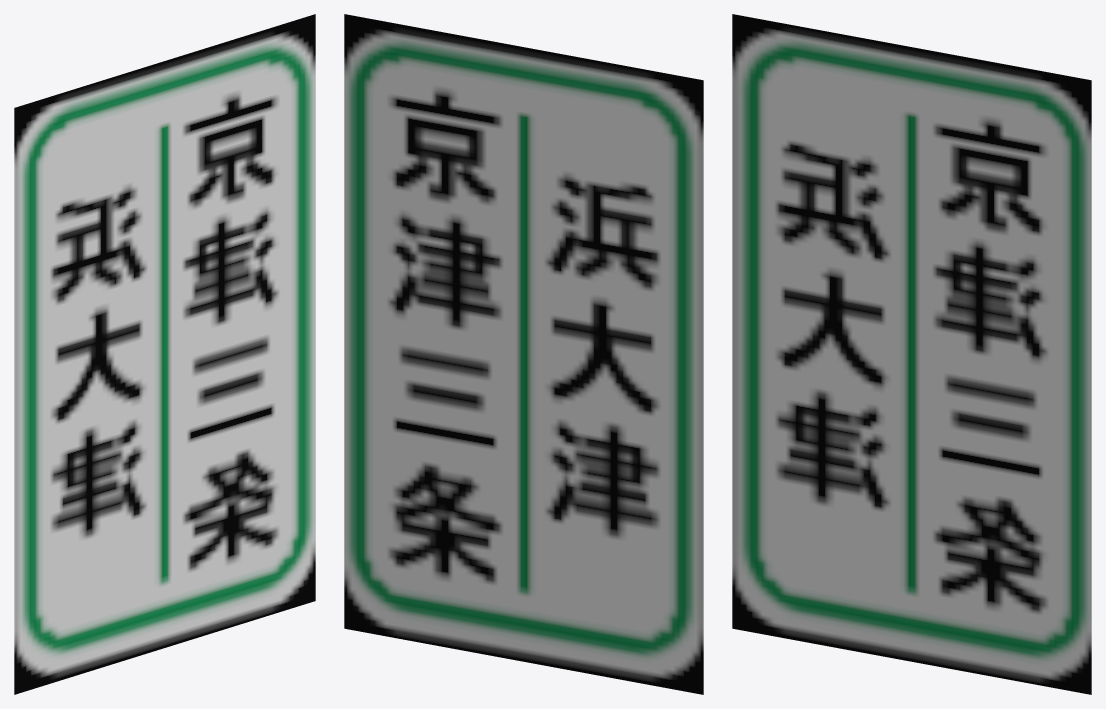
File: H2300_2_HAMAOTSU.glb
The picture shows the model from 3 angles, left to right: view 1: azimuth 30°, elevation 25°; view 2: azimuth 150°, elevation 25°; view 3: azimuth 330°, elevation 25°; orthographic projection. The views are drawn at different scales.
Parts seen in each view (by area): view 1: FRAME_ROOT; view 2: FRAME_ROOT; view 3: FRAME_ROOT.
Boxes of the visible parts, x1=… form: FRAME_ROOT: x1=14, y1=14, x2=315, y2=694; FRAME_ROOT: x1=344, y1=14, x2=703, y2=694; FRAME_ROOT: x1=732, y1=14, x2=1091, y2=694.
Bounding box in the file's own units: 0.7325 × 1.27 × 0.0823.
1 material, 1 textured.
